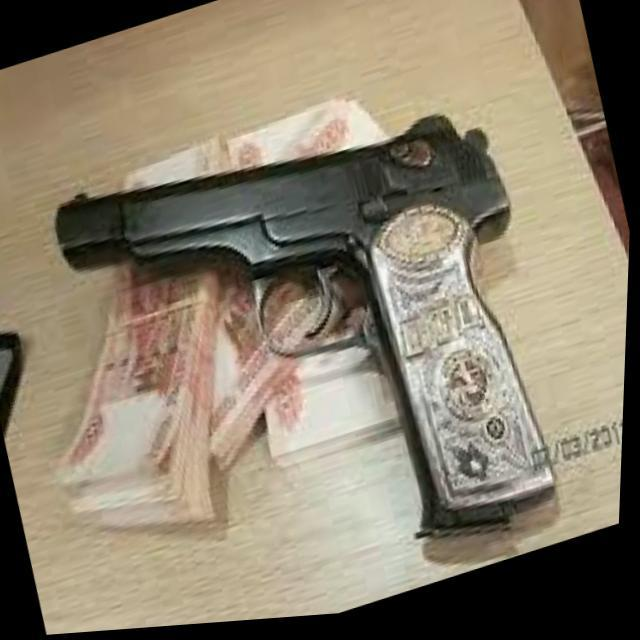weapon: (34, 61, 590, 636)
